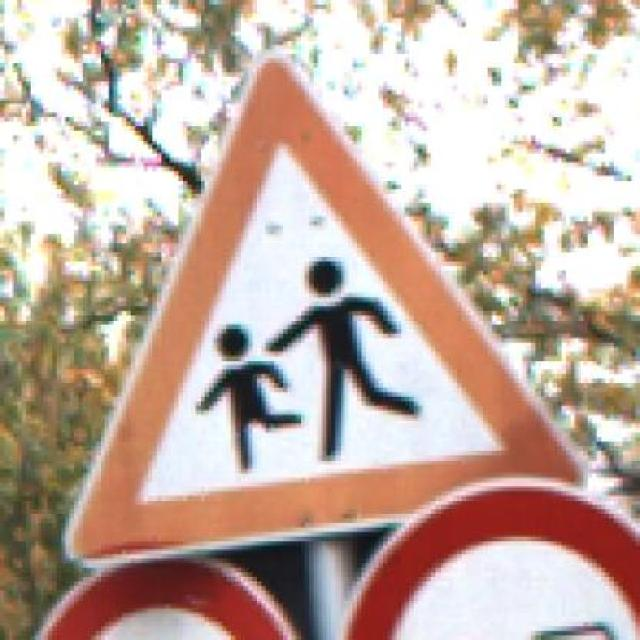Beware of children: (31, 49, 597, 563)
